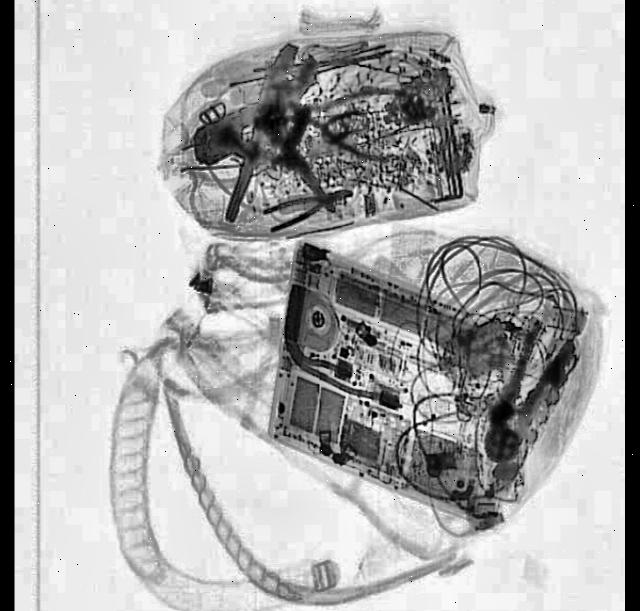Pliers: (224, 36, 360, 247), (468, 314, 578, 478), (188, 89, 318, 194), (280, 76, 408, 166), (260, 176, 354, 236)
